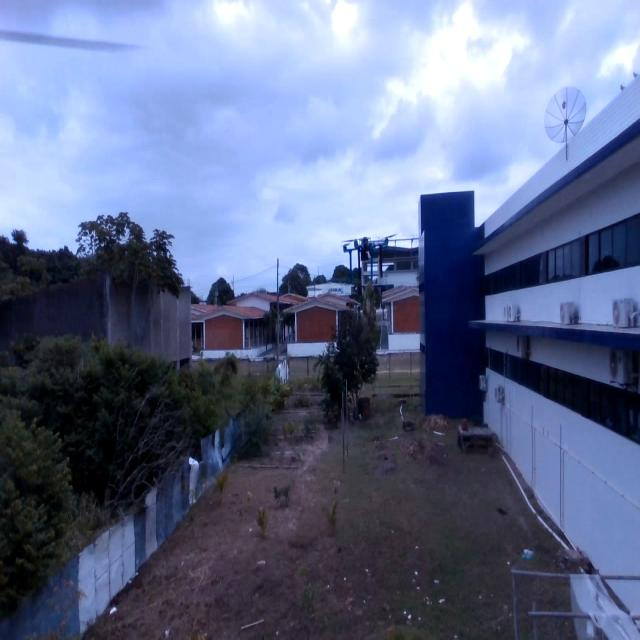-uav-: (336, 218, 399, 296)
